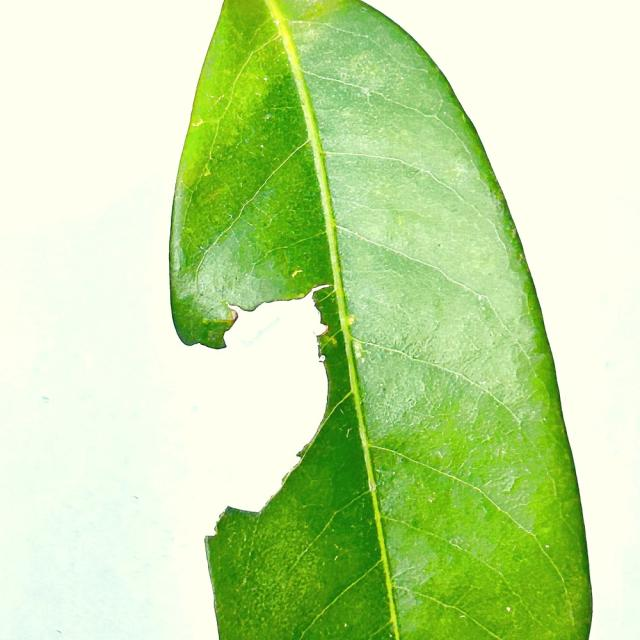Deficiency Leaf: (195, 301, 329, 536)
Lychee: (167, 0, 594, 639)
